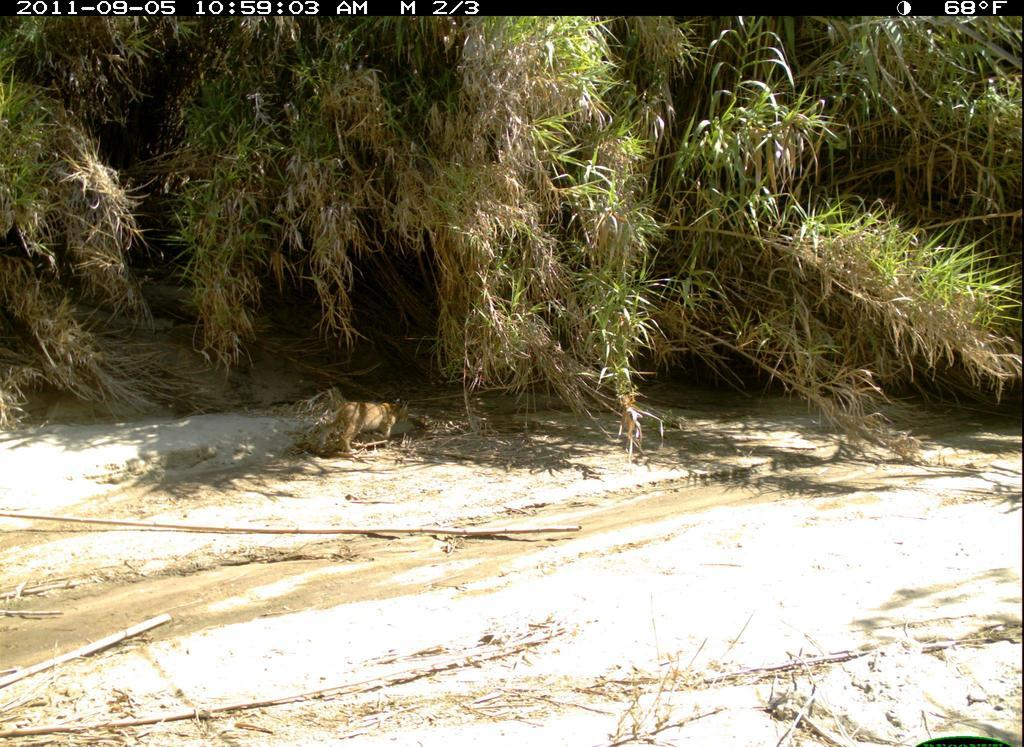bobcat: (318, 396, 417, 455)
